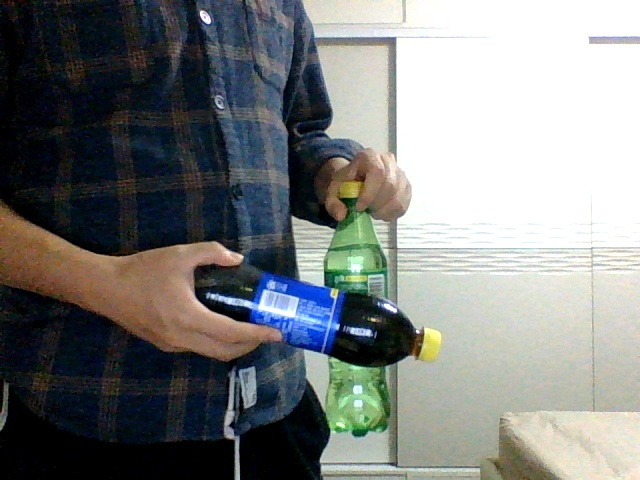Cola: (198, 265, 441, 368)
Sprite: (324, 181, 392, 435)
